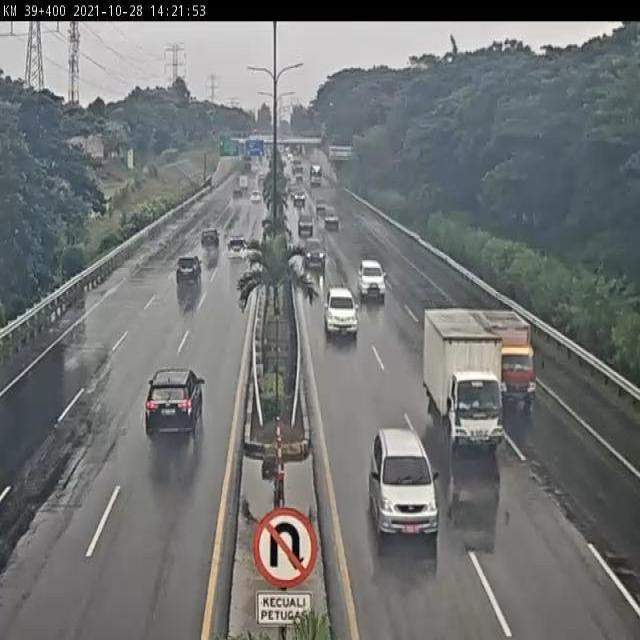car: (369, 428, 439, 543), (145, 367, 206, 440), (324, 286, 361, 338), (356, 256, 387, 303), (173, 253, 204, 290), (224, 233, 252, 266), (304, 236, 327, 267), (201, 223, 223, 249), (321, 204, 340, 228), (297, 210, 315, 230), (292, 185, 307, 208), (249, 189, 265, 207), (231, 183, 245, 201), (314, 193, 327, 211)
truck-m-: (424, 309, 505, 447)
truck-s-: (482, 314, 536, 406)
